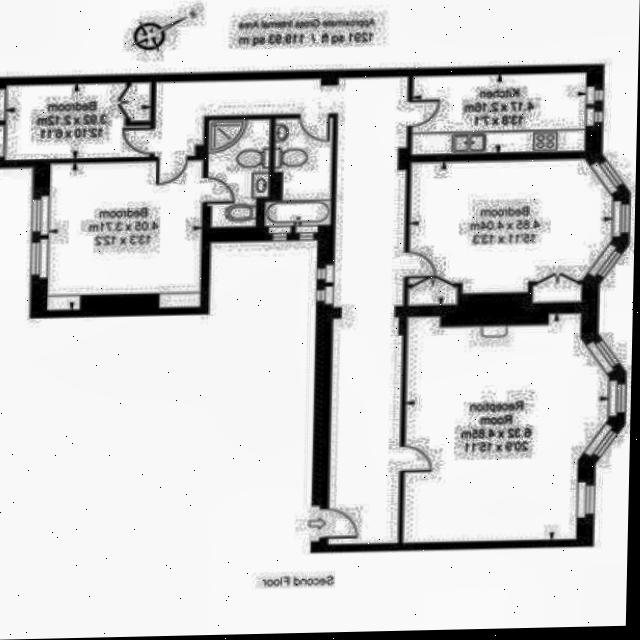room: (147, 71, 408, 545), (404, 310, 611, 547), (407, 158, 614, 305), (43, 161, 205, 310), (410, 73, 588, 154), (4, 84, 152, 159), (265, 116, 333, 229), (206, 117, 270, 229)
